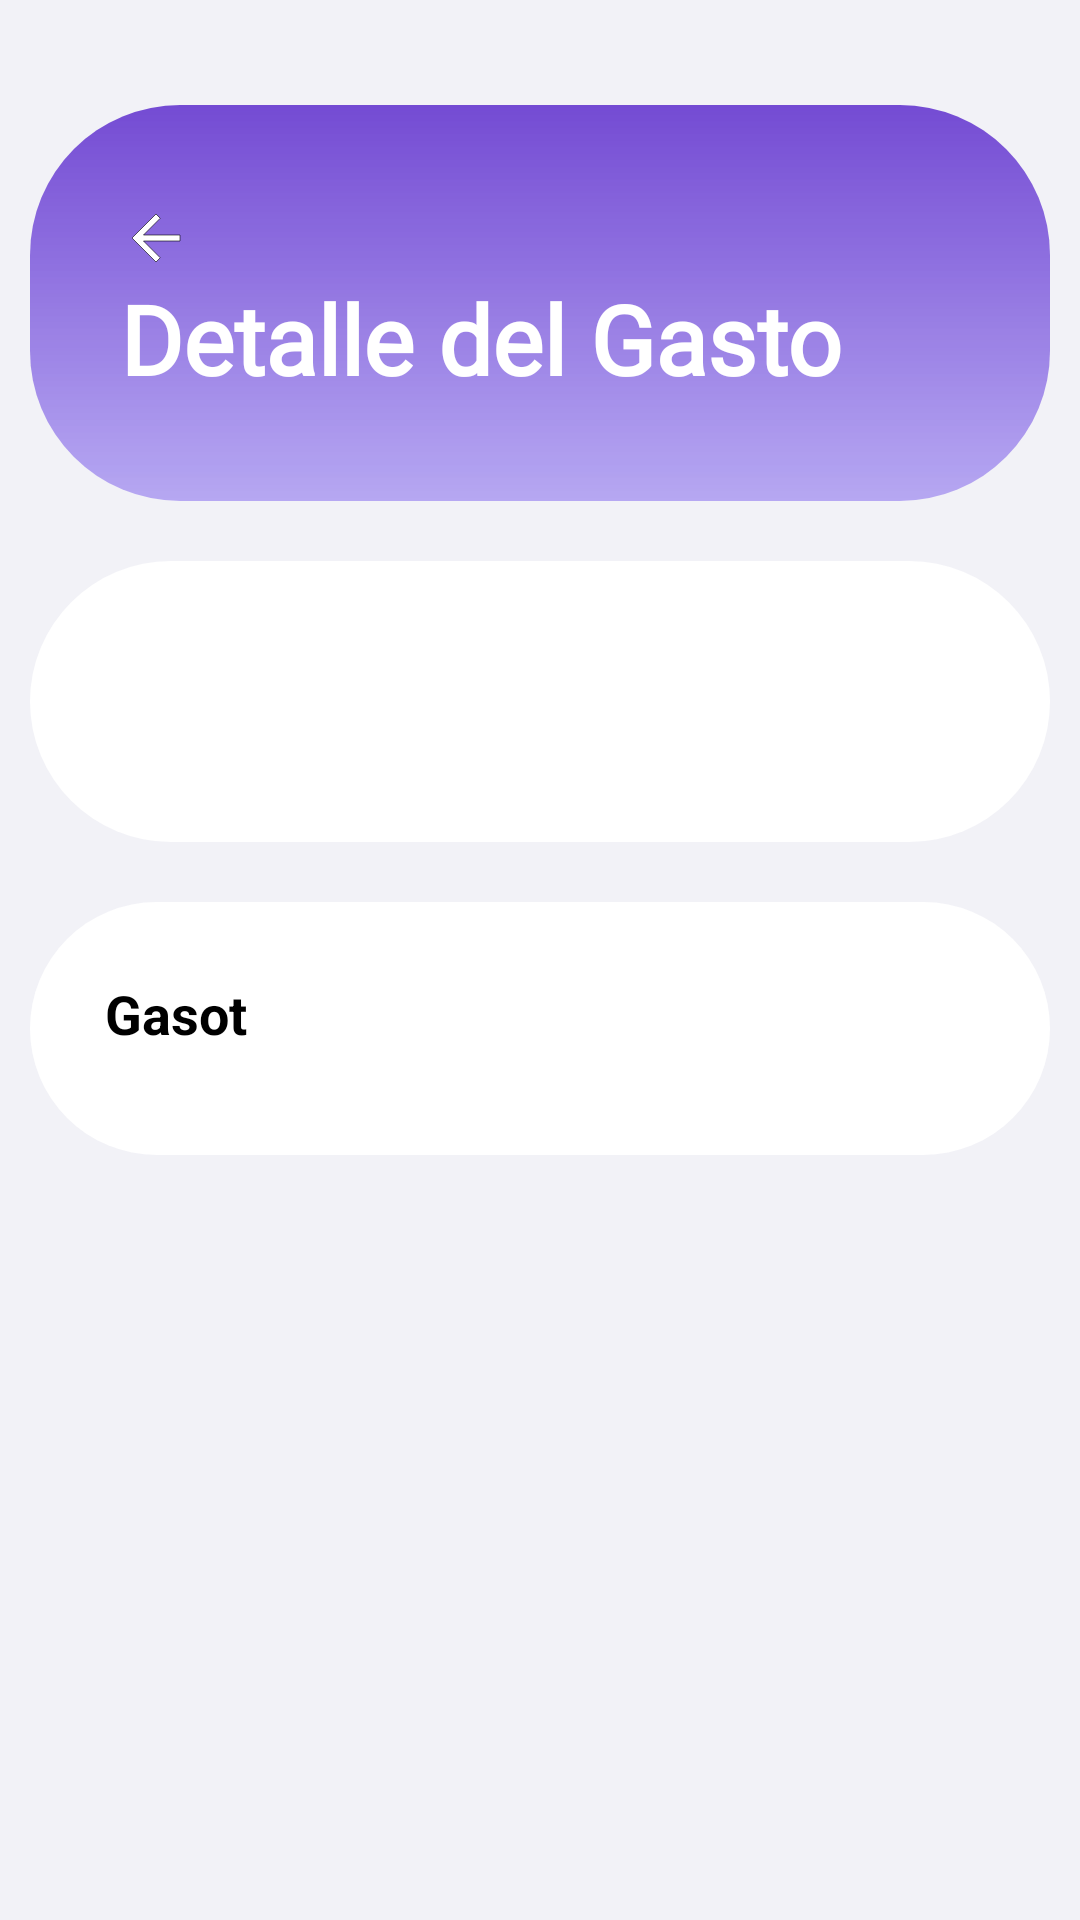

Screen size 1080×1920. Icon name, then its center in pixels as point (x, y):
Volver: point (156, 238)
